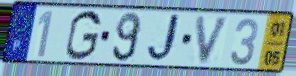1: (36, 9, 55, 59)
3: (229, 16, 260, 67)
9: (110, 10, 144, 64)
G: (64, 8, 104, 62)
J: (145, 13, 185, 65)
V: (194, 15, 232, 67)
